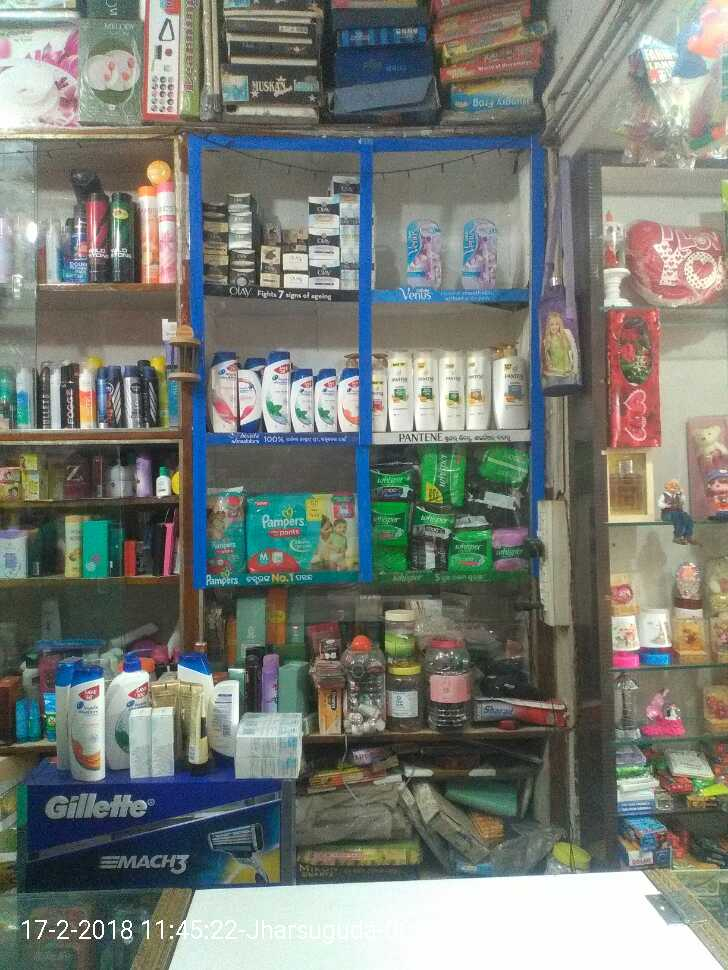venus: (409, 220, 443, 289), (463, 221, 498, 288)
